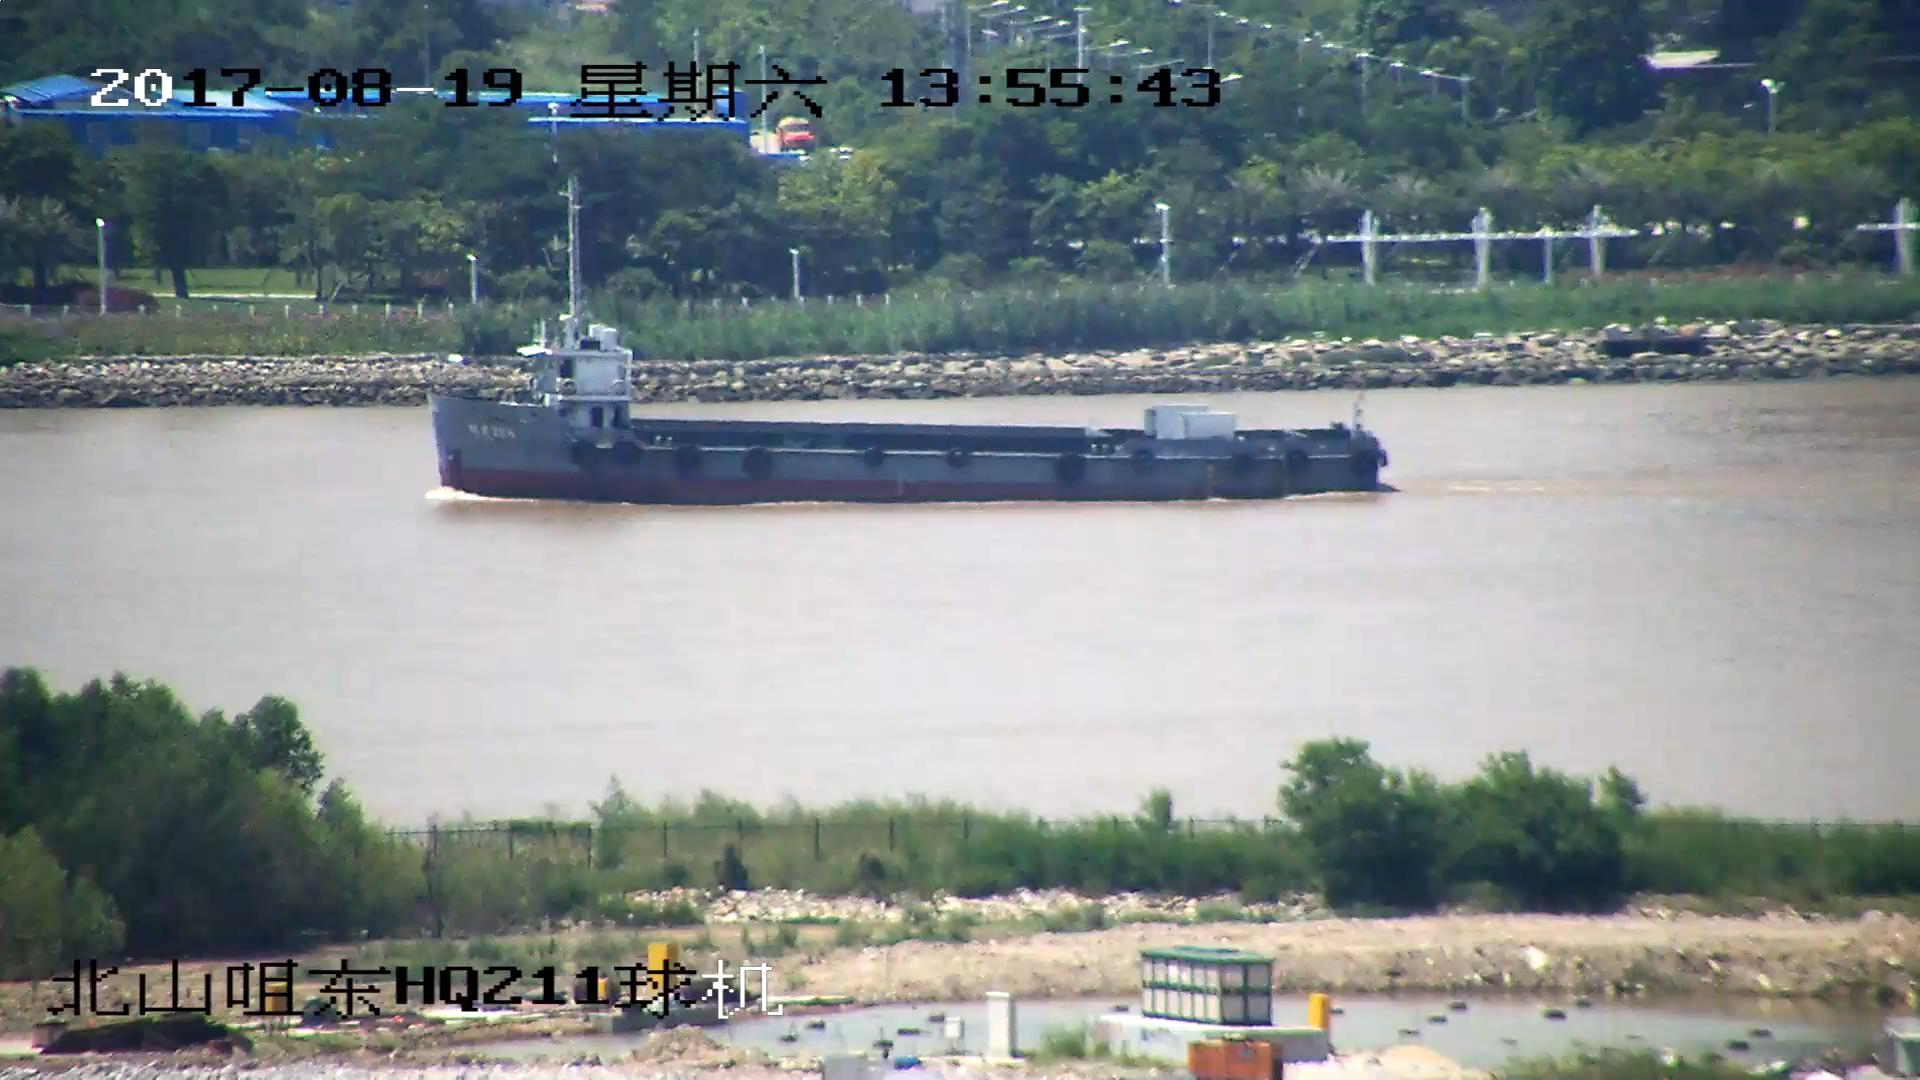Ship: (435, 313, 1385, 510)
